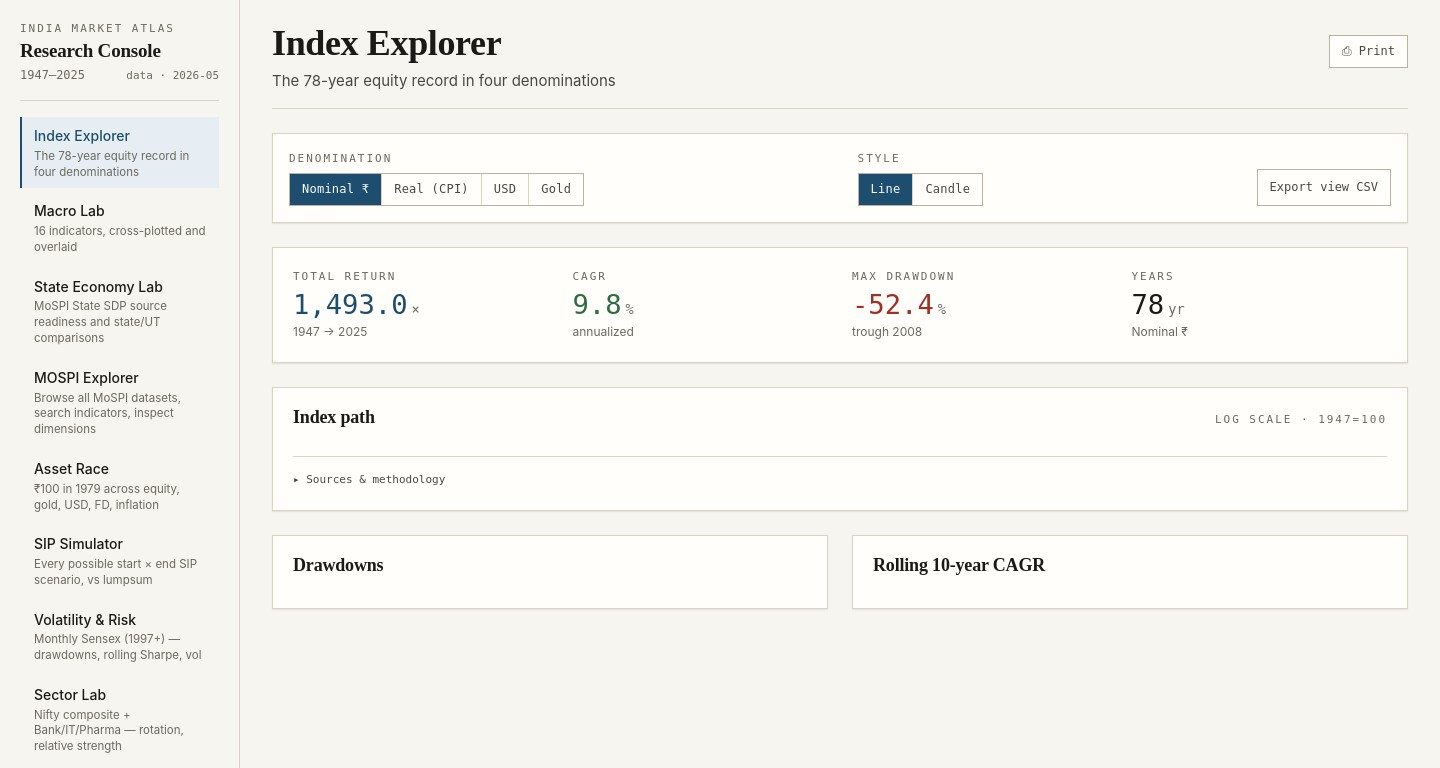
Research Console shell › selecting State Economy Lab opens the MOSPI source-readiness workspace
Click the button "State Economy Lab".
click(120, 311)  # box x1=20 y1=268 x2=219 y2=355
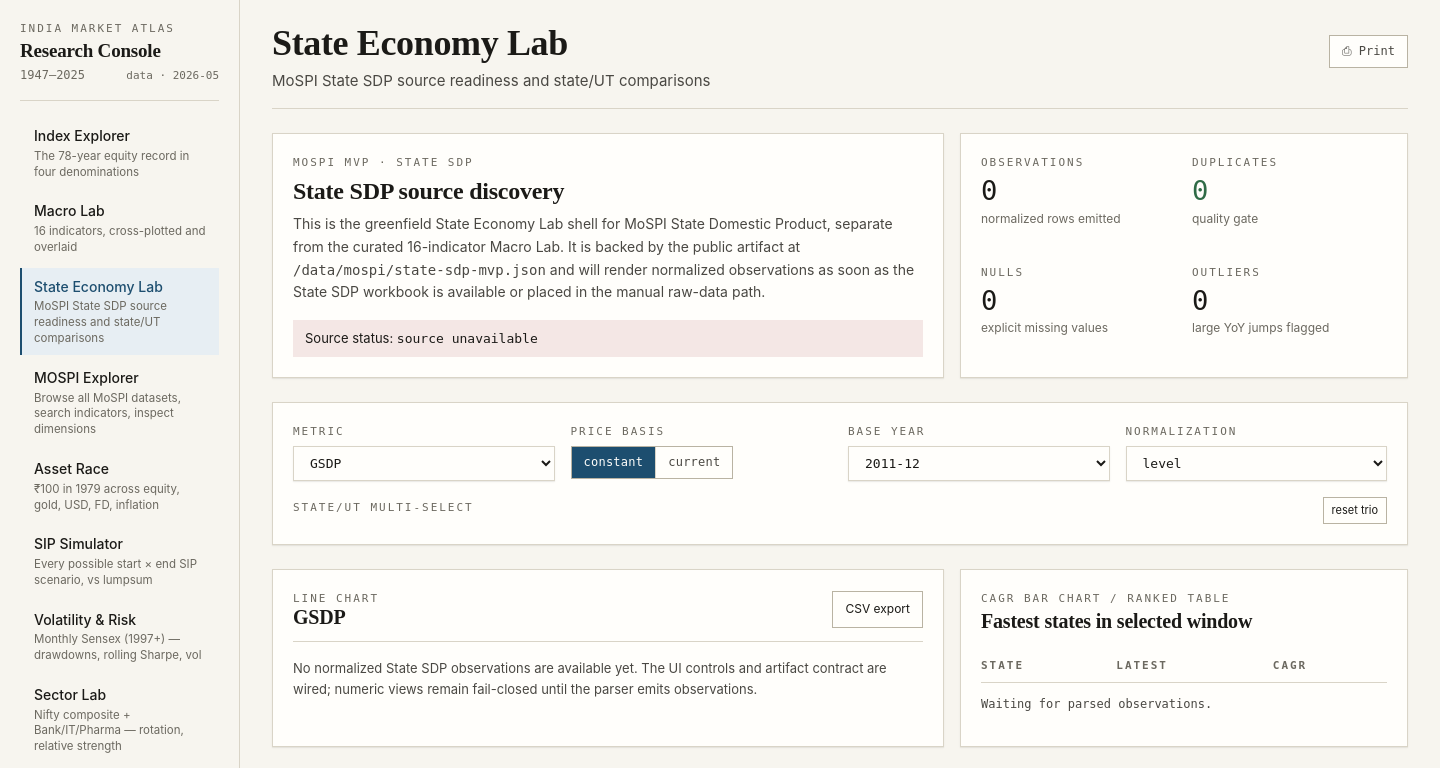
Now the heading "State Economy Lab" is shown, box x1=272 y1=23 x2=568 y2=63
Now the heading "State SDP source discovery" is shown, box x1=293 y1=178 x2=564 y2=204
